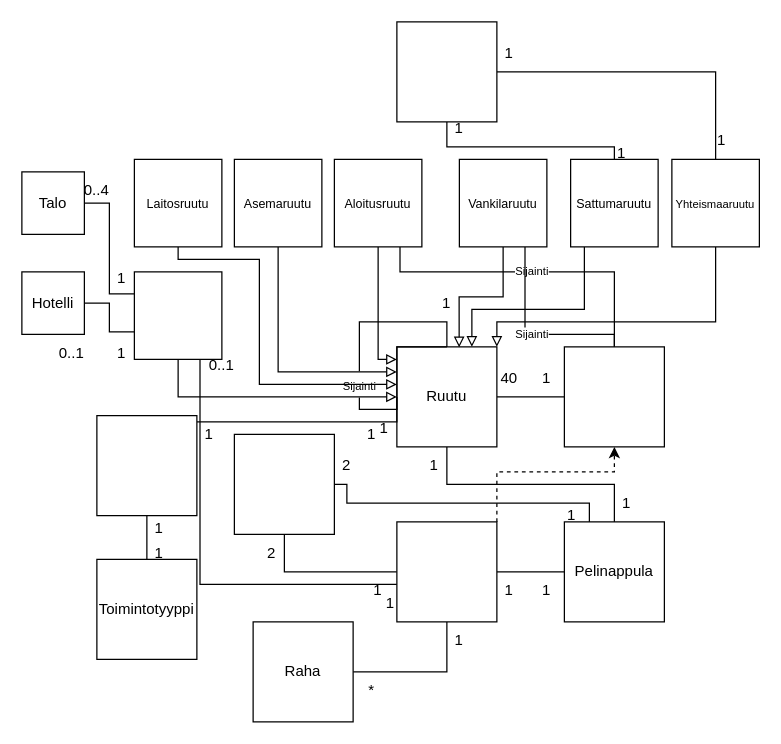
This 781x744 diagram has some shape labels left out. The shapes that lost their labels are listed below. From the top down, each one's box as (x1, y1, x2, y2) in pixels, then its label:
(396, 21, 497, 122): Kortti
(133, 271, 222, 359): Normaalit-kadut
(563, 346, 664, 447): Pelilauta
(96, 414, 197, 516): Toiminto
(233, 433, 334, 534): Noppa
(396, 521, 497, 622): Pelaaja
